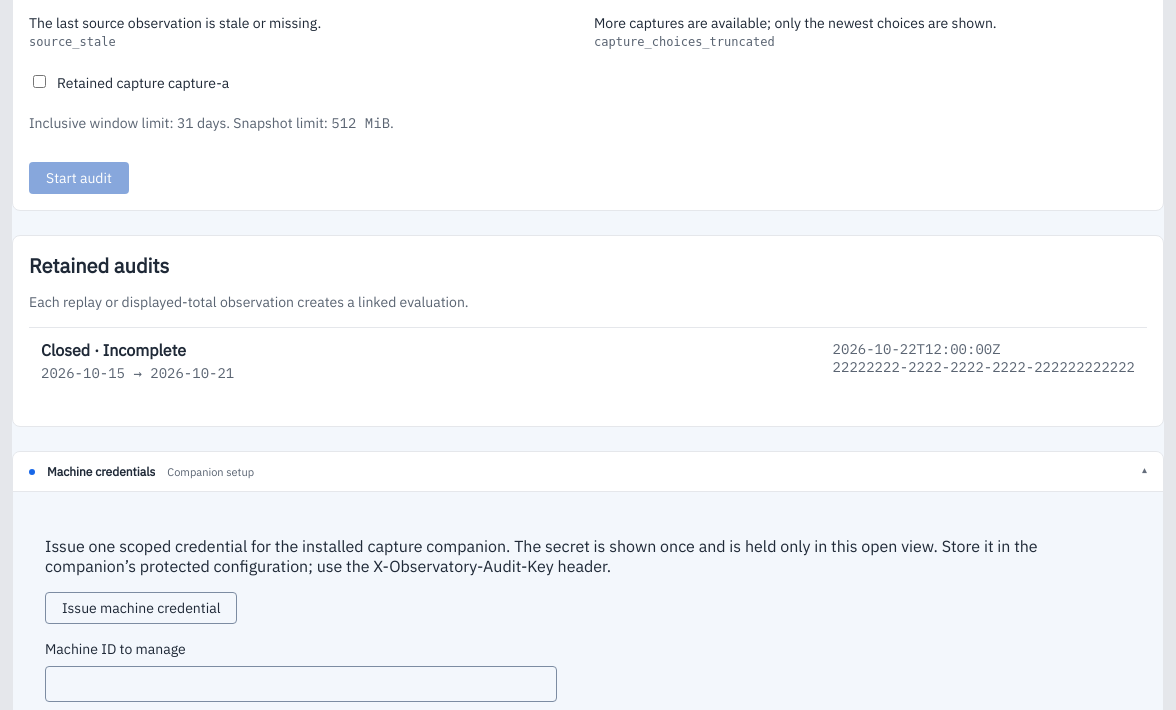
legacy summaries say check outcomes are unavailable without inventing a match
This screenshot has width=1176, height=710.
(page scrolled)
Click the button with aria-label "Open audit": (114, 350) [29,327,1147,394]
(page scrolled)
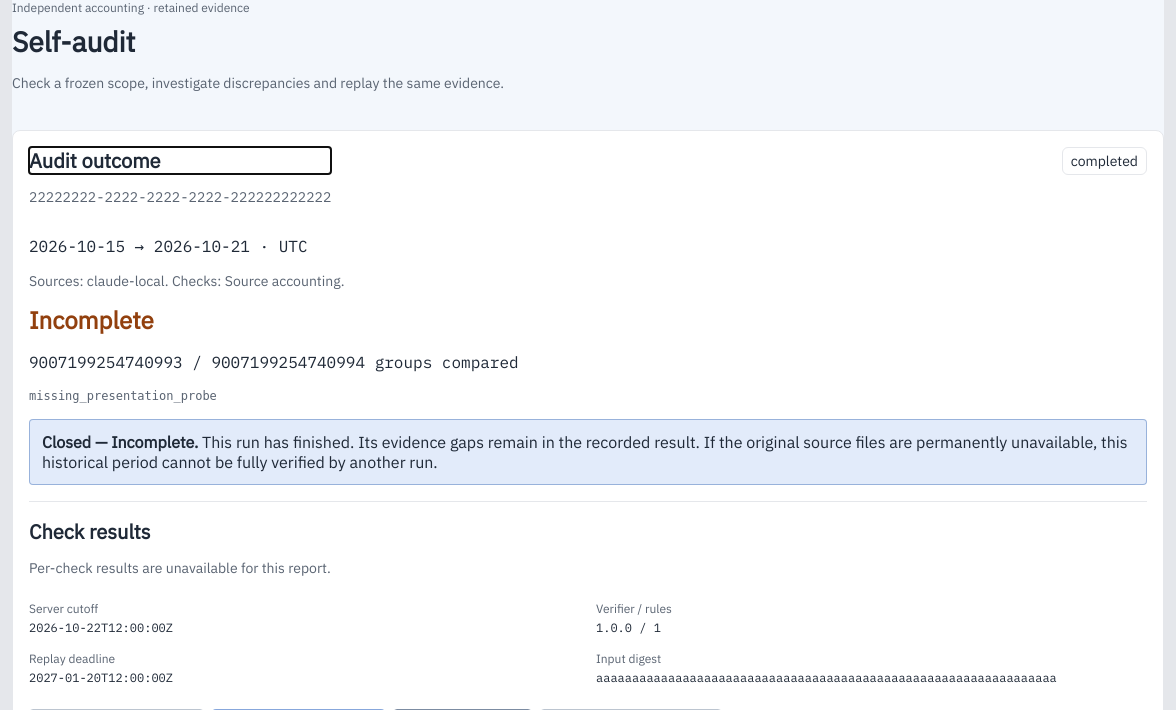
Result: the text "Per-check results are unavailable for this report." is shown at [29,559,331,577]
